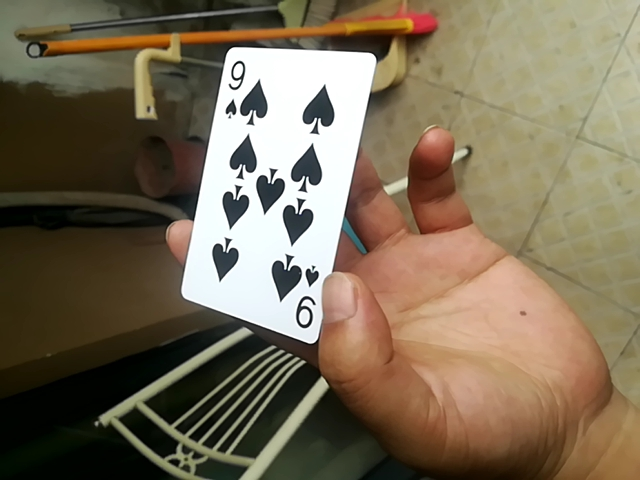ht 9: (179, 45, 365, 347)
